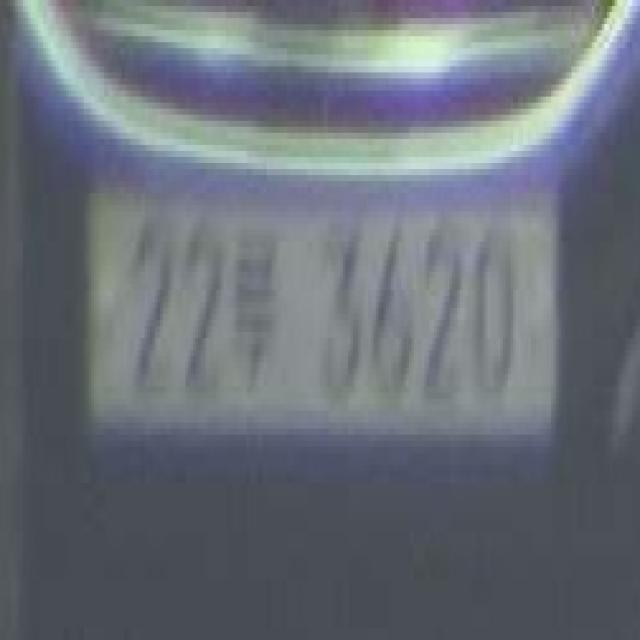0: (472, 216, 524, 419)
2: (124, 213, 177, 407), (420, 213, 469, 416), (181, 214, 228, 406)
3: (311, 220, 368, 413)
6: (369, 212, 418, 419)
license_plate: (86, 191, 557, 432)
lu: (234, 213, 287, 418)
